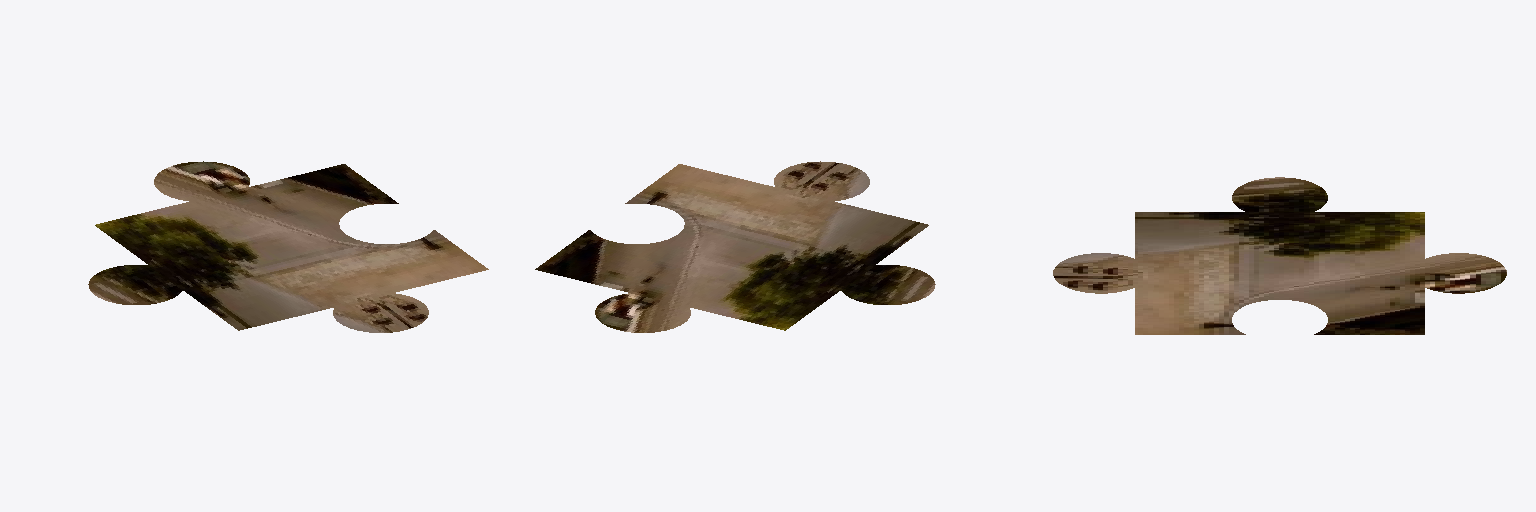
The picture shows the model from 3 angles: view 1: azimuth 30°, elevation 25°; view 2: azimuth 150°, elevation 25°; view 3: azimuth 270°, elevation 25°; orthographic projection.
Parts seen in each view (by area): view 1: ͼ��068; view 2: ͼ��068; view 3: ͼ��068.
Boxes of the visible parts, x1,y1,x2,y2 form: ͼ��068: [88, 161, 488, 332]; ͼ��068: [535, 161, 935, 332]; ͼ��068: [1053, 177, 1506, 334].
Bounding box in the file's own units: 38.5 × 0 × 47.01.
Materials: 1 (1 with a texture image).